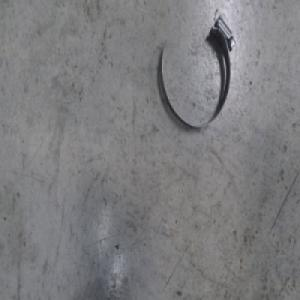AdjustableClamp: (158, 12, 236, 133)
